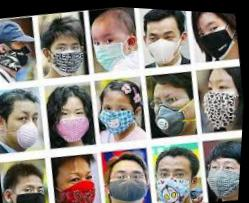OK: (201, 75, 243, 129), (151, 88, 195, 135), (92, 26, 135, 74), (191, 13, 236, 58), (6, 105, 46, 152), (60, 162, 105, 203), (155, 161, 198, 203), (54, 103, 95, 144), (145, 22, 184, 65), (205, 155, 242, 199), (101, 95, 139, 136), (4, 33, 36, 74), (51, 38, 87, 74), (16, 179, 55, 203)
WRONG: (108, 165, 154, 203)
